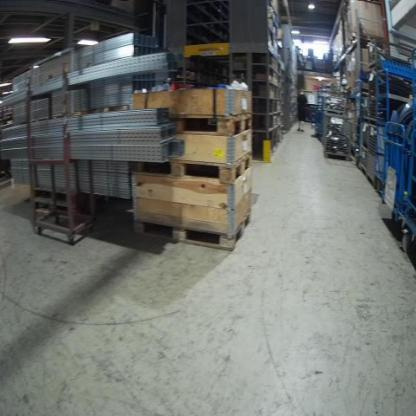pallet: (133, 210, 251, 253), (129, 149, 253, 186), (169, 111, 253, 138)
stillage: (357, 120, 382, 186), (323, 112, 352, 159), (358, 93, 384, 126)
